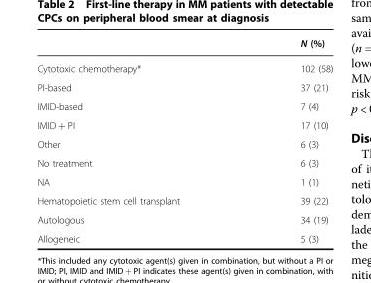table: (36, 36, 332, 243)
table column: (36, 36, 239, 243), (239, 36, 332, 243)
table column header: (36, 36, 332, 55)
table row: (36, 55, 332, 77), (36, 36, 332, 55), (36, 77, 332, 96), (36, 96, 332, 115), (36, 115, 332, 134), (36, 134, 332, 153), (36, 153, 332, 172), (36, 172, 332, 191), (36, 209, 332, 228), (36, 191, 332, 209), (36, 228, 332, 243)
